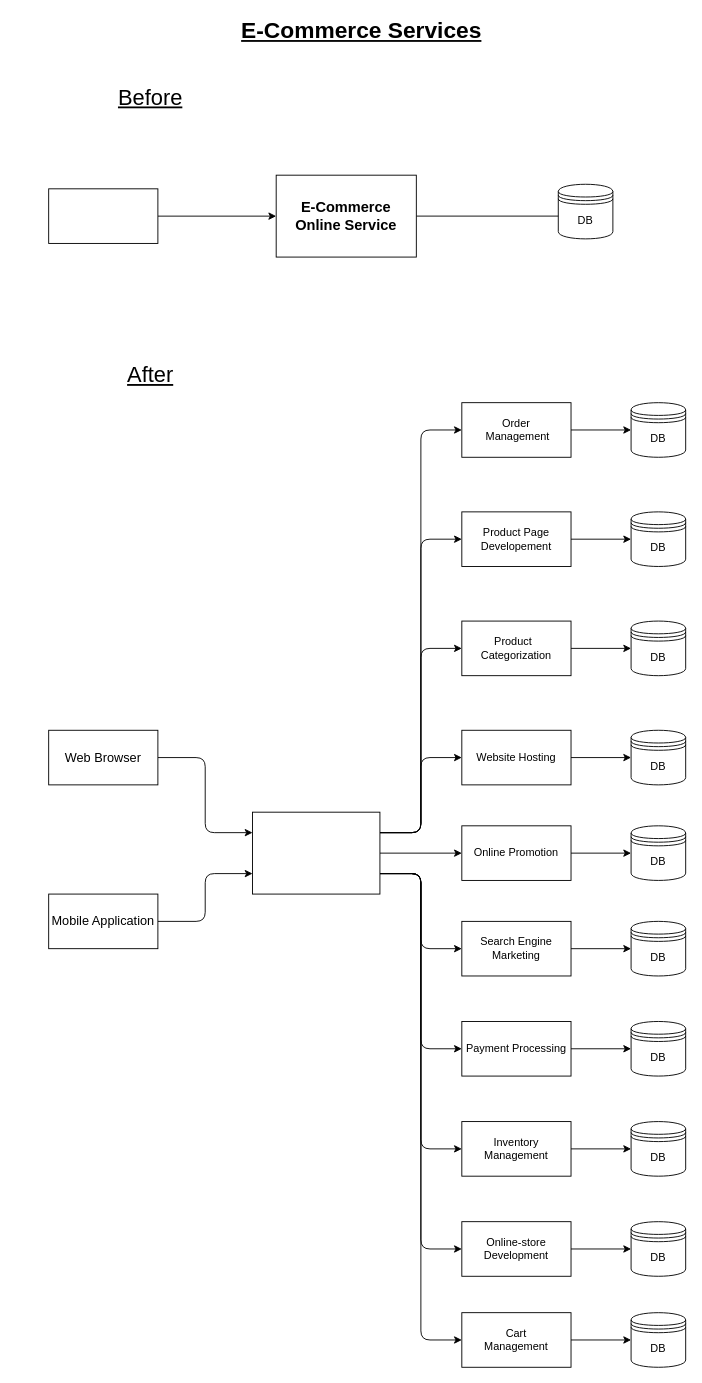
Some shapes in this 702 by 1383 pixel diagram are drawn without their labels. The shapes that lost their labels are listed below. From the top down, each one's centre as x and y in pixels, then its label:
pixel 103 215: Client
pixel 316 852: E-Commerce Online Shopping Service
